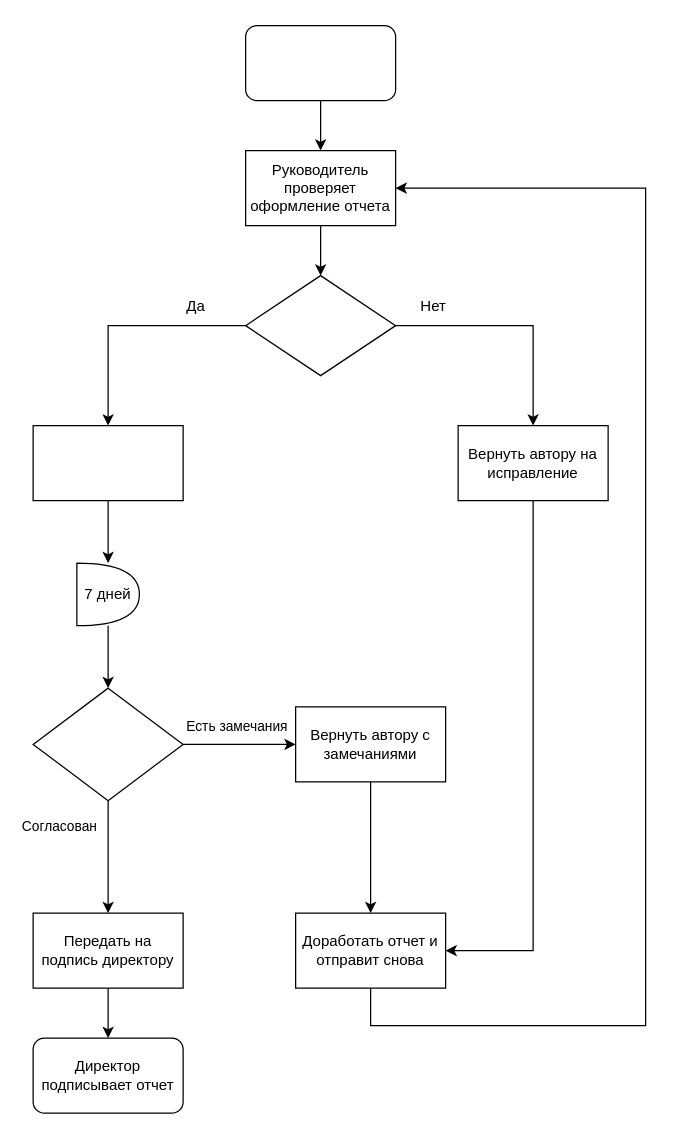
The diagram is 678 pixels wide and 1135 high, and some of its shapes have lost their labels. Each missing label, with the centre of its shape:
"Автор отправляет отчет руководителю проекта" belongs at (320,62).
"Отправить заказчику на согласование" belongs at (107,462).
"Оформление корректное?" belongs at (320,325).
"Результат согласования?" belongs at (107,744).
